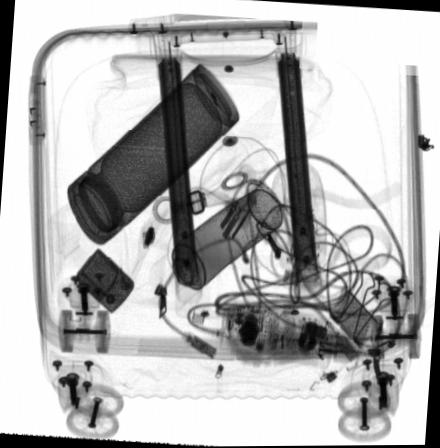Lighter: (75, 248, 134, 315)
Sprayer: (148, 188, 282, 314)
